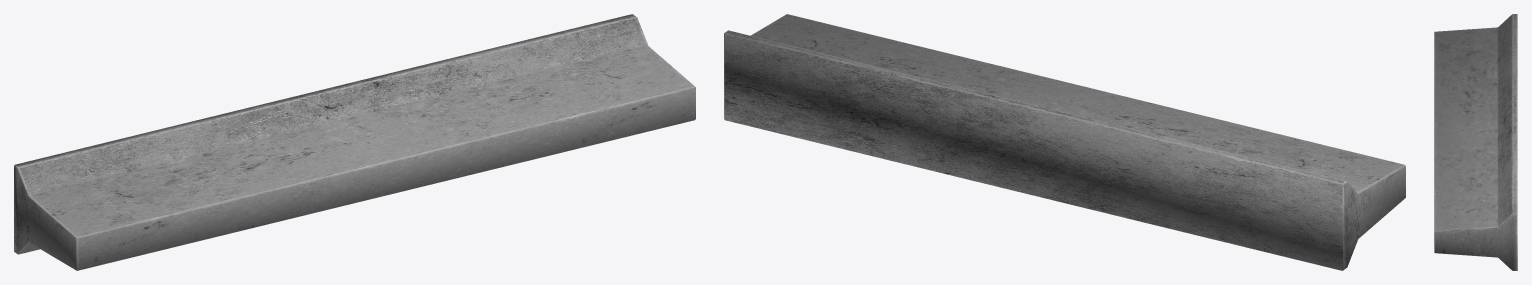
File: Concrete_Barrier.obj
3 renders of one model, left to right at view 1: azimuth 30°, elevation 25°; view 2: azimuth 150°, elevation 25°; view 3: azimuth 270°, elevation 25°, orthographic. The views are drawn at different scales.
Visible parts, largest first — view 1: Concrete_Barrier; view 2: Concrete_Barrier; view 3: Concrete_Barrier.
Boxes of the visible parts, x1,y1,x2,y2 form: Concrete_Barrier: (14, 14, 695, 270); Concrete_Barrier: (724, 14, 1405, 270); Concrete_Barrier: (1434, 14, 1517, 270).
Size of the model in its own units: 6.1 by 0.82 by 1.07.
1 material, 1 textured.
